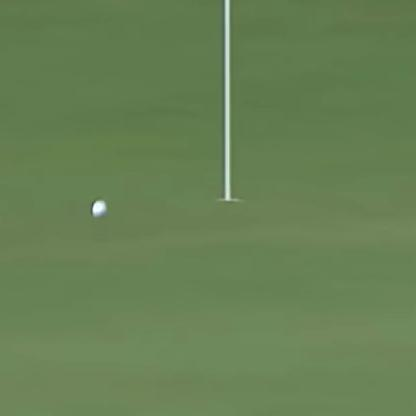golfball: (89, 199, 111, 218)
